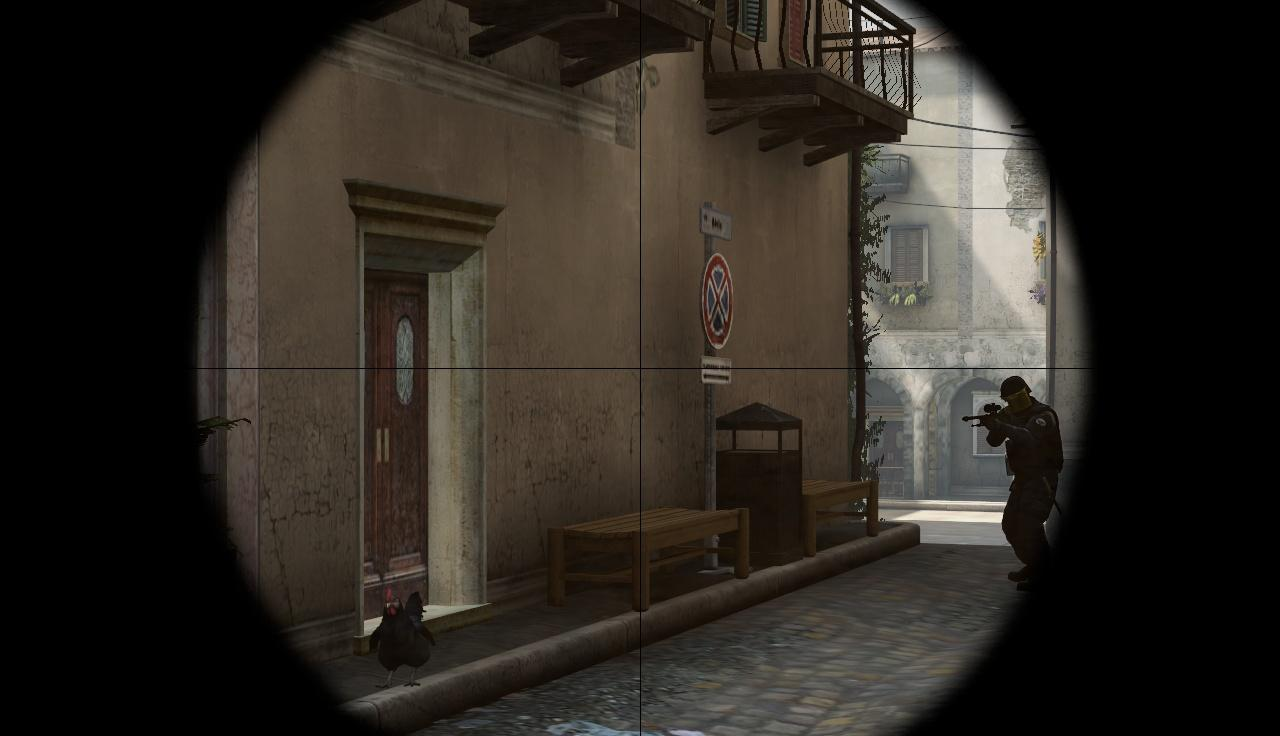ct: (993, 374, 1058, 583)
cthead: (1000, 375, 1032, 413)
